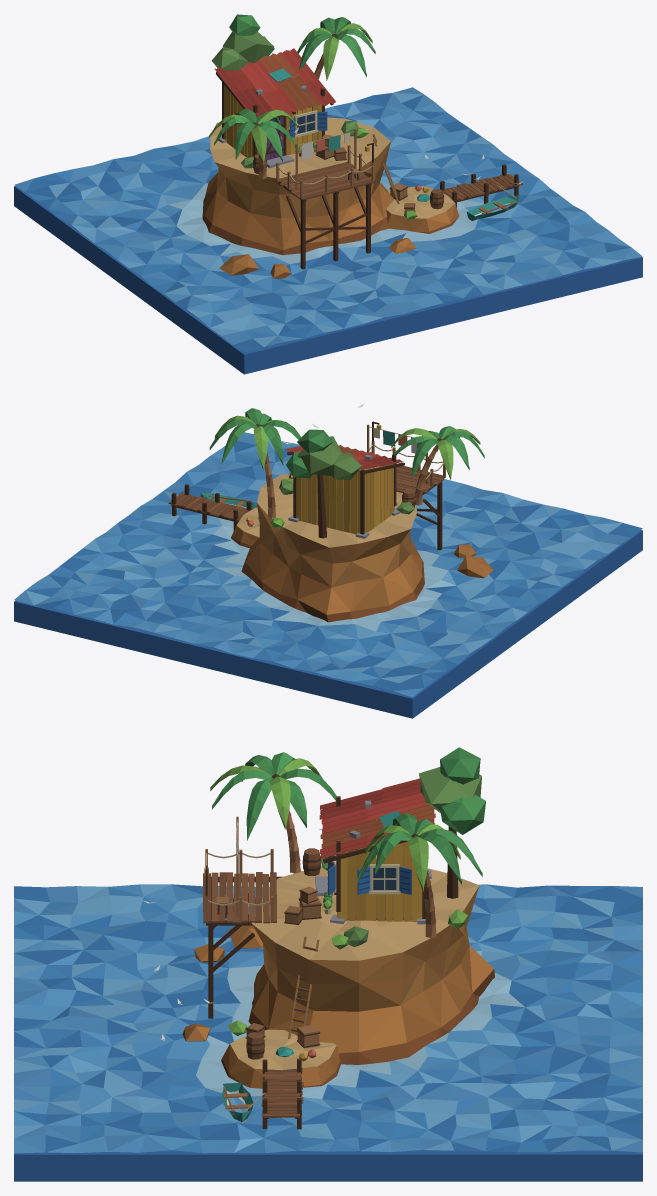
The model's file is lt_pipeline_test_01.glb.
The picture shows the model from 3 angles, top to bottom: view 1: azimuth 30°, elevation 25°; view 2: azimuth 150°, elevation 25°; view 3: azimuth 270°, elevation 25°; orthographic projection. The views are drawn at different scales.
Parts seen in each view (by area): view 1: water_surface, water_slab, cliff_main, house_roof_sheets, palm_fronds, cliff_main_top, tree_canopy, deck_structure, deck_planks, cliff_ledge, rocks_sea, cliff_ledge_top (+8 smaller); view 2: water_surface, water_slab, cliff_main, palm_fronds, house_wall_back, cliff_main_top, tree_canopy, house_wall_left, dock_planks, palm_trunk, rocks_sea, deck_planks (+6 smaller); view 3: water_surface, cliff_main, water_slab, cliff_main_top, palm_fronds, house_roof_sheets, tree_canopy, house_wall_right, deck_planks, cliff_ledge_top, cliff_ledge, dock_planks (+8 smaller).
Part boxes in pixels (<box>): water_surface: <box>14,87,642,352</box>; water_slab: <box>14,186,642,374</box>; cliff_main: <box>202,141,394,255</box>; house_roof_sheets: <box>214,48,335,117</box>; palm_fronds: <box>209,17,375,163</box>; cliff_main_top: <box>210,117,390,178</box>; tree_canopy: <box>211,14,274,70</box>; deck_structure: <box>275,178,371,269</box>; deck_planks: <box>274,162,374,200</box>; cliff_ledge: <box>386,203,459,233</box>; rocks_sea: <box>219,238,415,278</box>; cliff_ledge_top: <box>386,186,454,218</box>; water_surface: <box>14,432,642,697</box>; water_slab: <box>14,530,642,718</box>; cliff_main: <box>241,503,424,622</box>; palm_fronds: <box>209,408,484,479</box>; house_wall_back: <box>296,469,360,534</box>; cliff_main_top: <box>257,474,417,547</box>; tree_canopy: <box>286,429,361,479</box>; house_wall_left: <box>364,464,394,532</box>; dock_planks: <box>168,492,250,521</box>; palm_trunk: <box>264,444,438,517</box>; rocks_sea: <box>454,544,493,578</box>; deck_planks: <box>396,466,444,495</box>; water_surface: <box>14,884,642,1153</box>; cliff_main: <box>248,886,494,1064</box>; water_slab: <box>14,1150,642,1181</box>; cliff_main_top: <box>251,858,479,960</box>; palm_fronds: <box>210,752,482,891</box>; house_roof_sheets: <box>319,778,435,858</box>; tree_canopy: <box>418,747,485,834</box>; house_wall_right: <box>338,841,422,921</box>; deck_planks: <box>203,872,276,923</box>; cliff_ledge_top: <box>230,1029,336,1070</box>; cliff_ledge: <box>221,1044,340,1088</box>; dock_planks: <box>261,1068,303,1117</box>.
Size of the model in its own units: 19 by 9.15 by 19.
